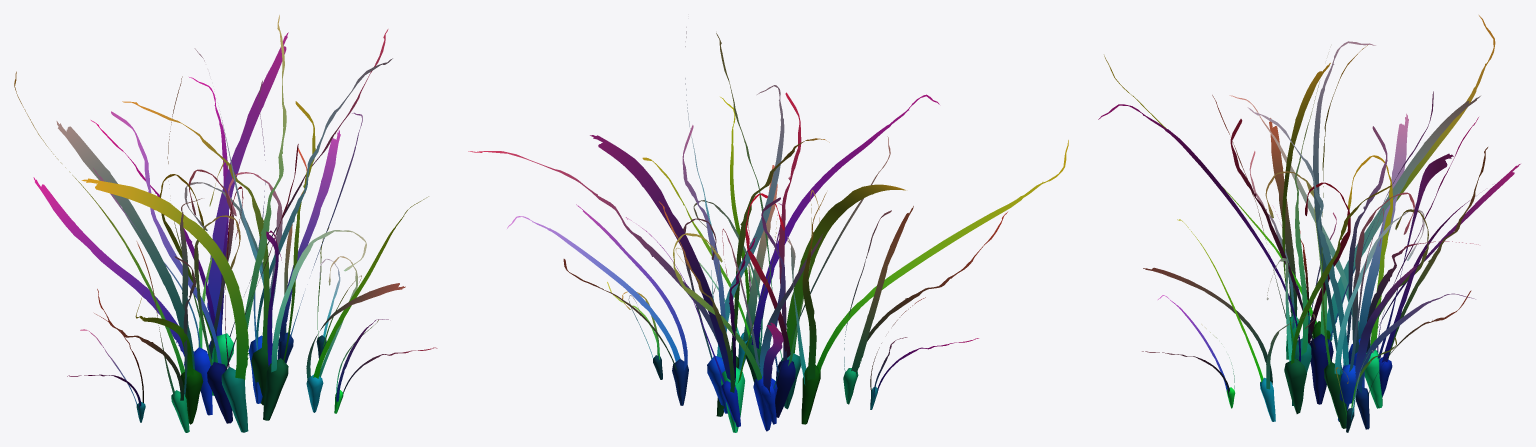
Rendered from Ribbon_Grass_tbdpec3r_Raw_tbdpec3r_VarE_LOD0.fbx.
3 renders of one model, left to right at view 1: azimuth 30°, elevation 25°; view 2: azimuth 150°, elevation 25°; view 3: azimuth 270°, elevation 25°, orthographic. The views are drawn at different scales.
Parts seen in each view (by area): view 1: _8f3e_VarE_High; view 2: _8f3e_VarE_High; view 3: _8f3e_VarE_High.
Part boxes in pixels (box(x1,y1,x2,y2)): _8f3e_VarE_High: box(14, 15, 437, 432); _8f3e_VarE_High: box(468, 27, 1068, 432); _8f3e_VarE_High: box(1098, 15, 1520, 432).
Size of the model in its own units: 33.58 by 28.83 by 28.32.
